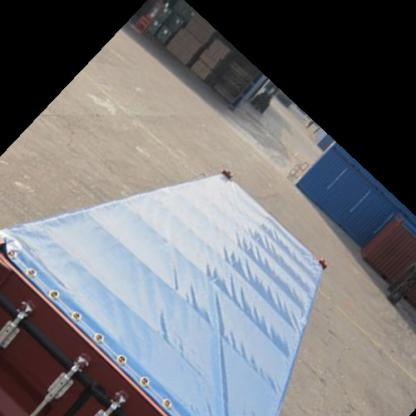Damage: (80, 367, 113, 399)
